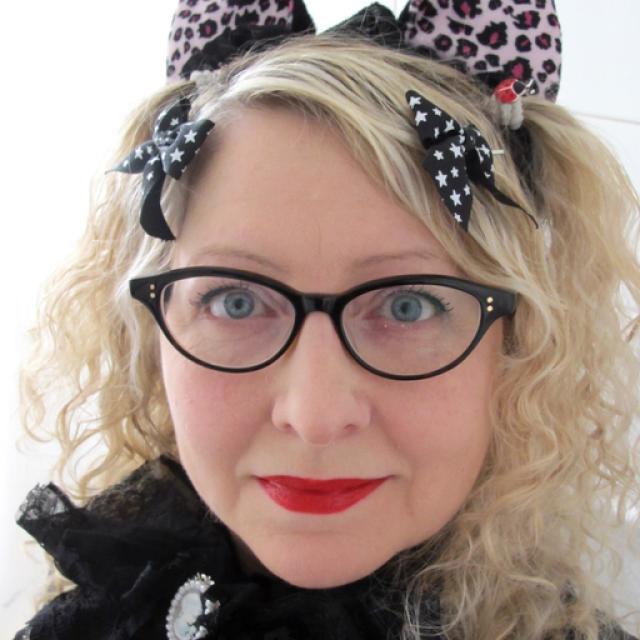content: (161, 136, 495, 584)
